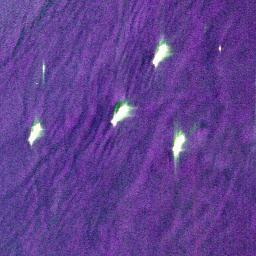Ship: (109, 101, 136, 128), (26, 116, 46, 148), (150, 42, 172, 65), (170, 131, 186, 157), (39, 61, 47, 76), (217, 43, 223, 53)
